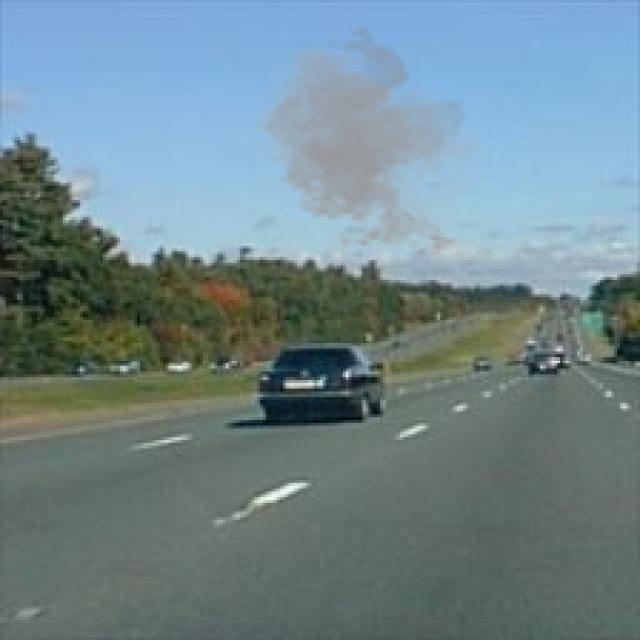Smoke: (252, 23, 492, 263)
